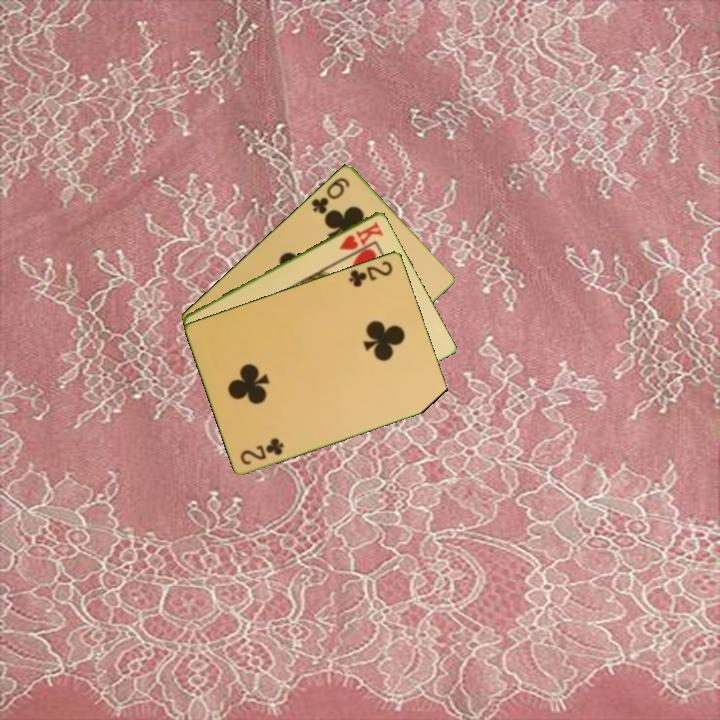2c: (345, 257, 396, 290), (237, 435, 287, 467)
6c: (308, 173, 352, 217)
Kh: (336, 217, 386, 253)
